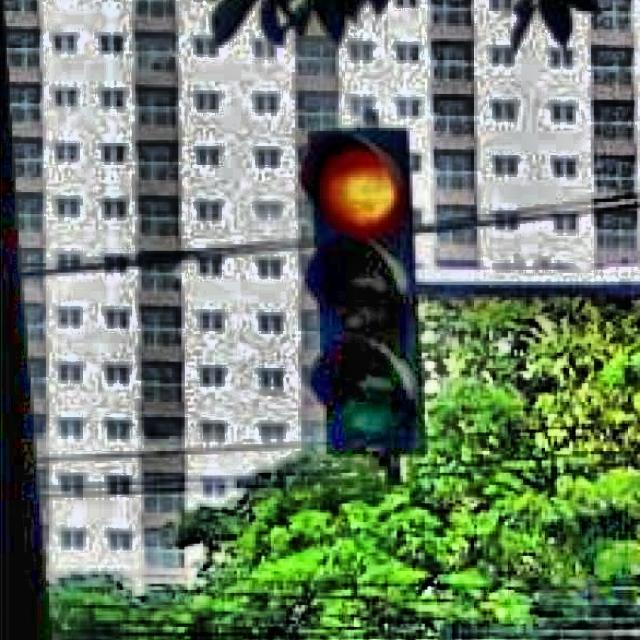red: (308, 126, 423, 452)
